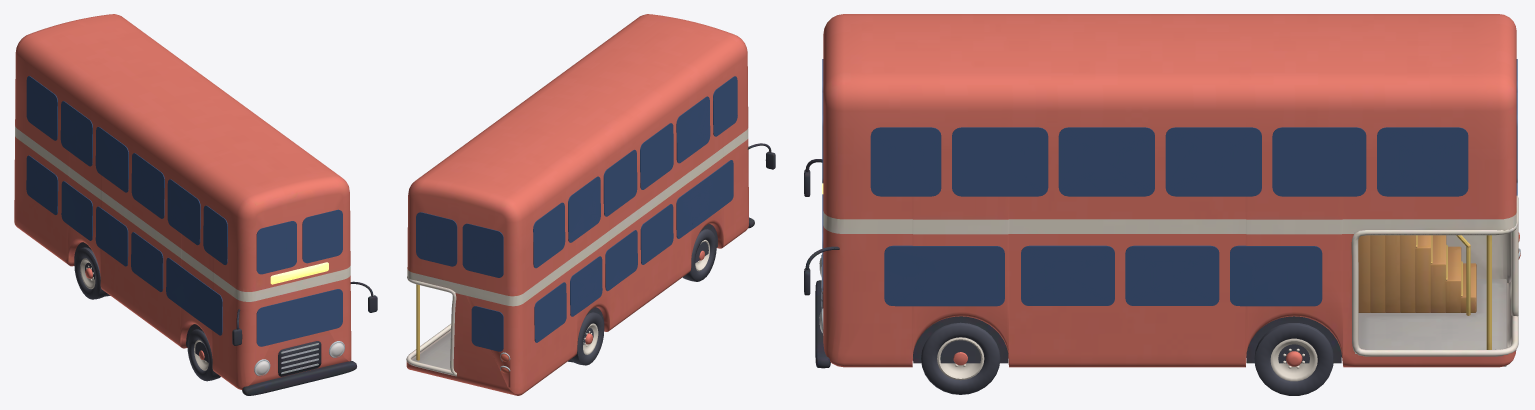
The model's file is double-decker-bus.glb.
3 views of the same model, side by side, from view 1: azimuth 30°, elevation 25°; view 2: azimuth 150°, elevation 25°; view 3: azimuth 270°, elevation 25° (orthographic). The views are drawn at different scales.
Parts seen in each view (by area): view 1: double-decker-bus_body, double-decker-bus_windows, double-decker-bus_wheel_rr, double-decker-bus_wheel_fr, double-decker-bus_destination_display, double-decker-bus_headlights; view 2: double-decker-bus_body, double-decker-bus_windows, double-decker-bus_wheel_rr, double-decker-bus_wheel_fr; view 3: double-decker-bus_body, double-decker-bus_windows, double-decker-bus_wheel_rl, double-decker-bus_wheel_fl.
Boxes of the visible parts, x1,y1,x2,y2 form: double-decker-bus_body: (14,14,377,395); double-decker-bus_windows: (26,76,342,346); double-decker-bus_wheel_rr: (74,247,110,299); double-decker-bus_wheel_fr: (187,329,220,381); double-decker-bus_destination_display: (270,262,328,284); double-decker-bus_headlights: (254,341,344,376); double-decker-bus_body: (406,14,775,395); double-decker-bus_windows: (416,76,737,351); double-decker-bus_wheel_rr: (568,312,604,365); double-decker-bus_wheel_fr: (682,229,716,281); double-decker-bus_body: (804,14,1518,368); double-decker-bus_windows: (822,59,1517,306); double-decker-bus_wheel_rl: (1254,323,1333,395); double-decker-bus_wheel_fl: (921,322,1000,394).
Bounding box in the file's own units: 3.08 × 4.35 × 8.92.
3 materials, 3 textured.
